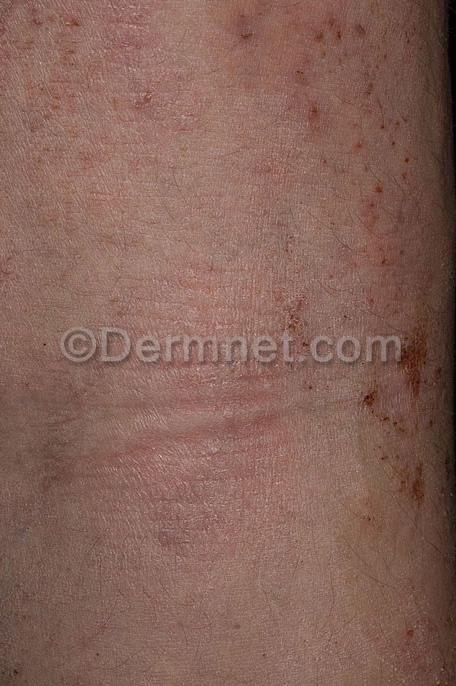eritema 1: (231, 0, 456, 686)
exudacion 2: (225, 0, 444, 495)
xerosis 1: (50, 311, 347, 580), (308, 603, 450, 686)
